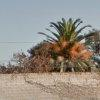Palm tree: (38, 11, 99, 73)
